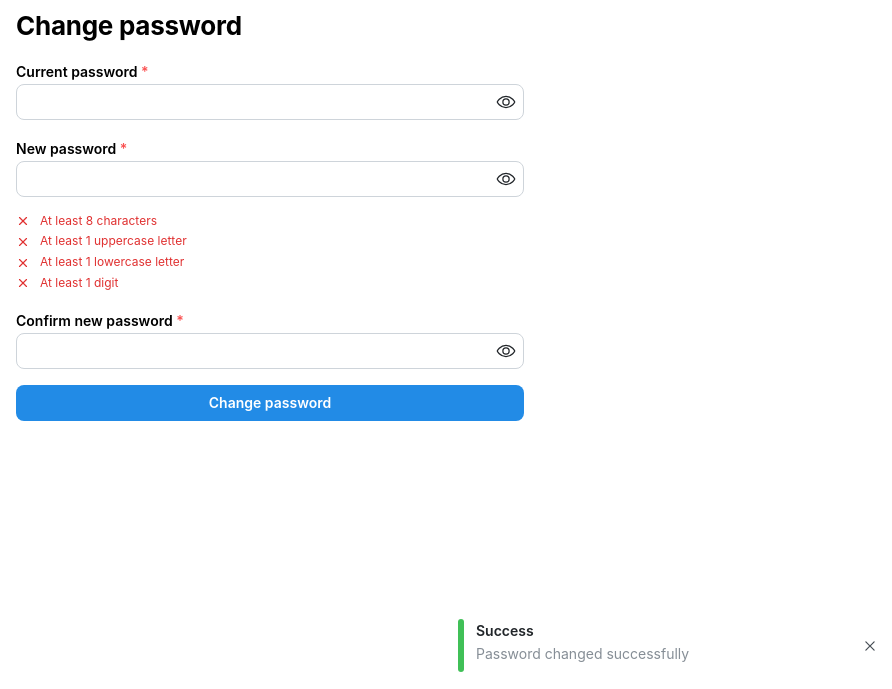
it: ChangePasswordPage › blocks submit when confirm does not match
Expected: the button "Change password" is enabled, [16,385,524,421]
In the password field labelled "Current password *": (270, 102) [17,85,523,119], type "OldPass1"
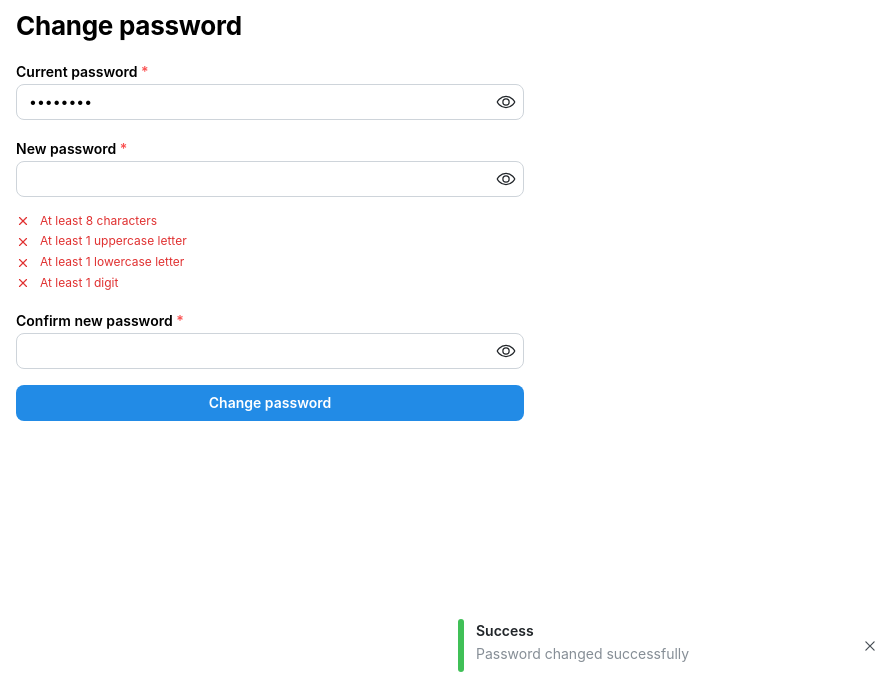
In the password field labelled "New password *": (270, 179) [17,162,523,196], type "NewPass456"
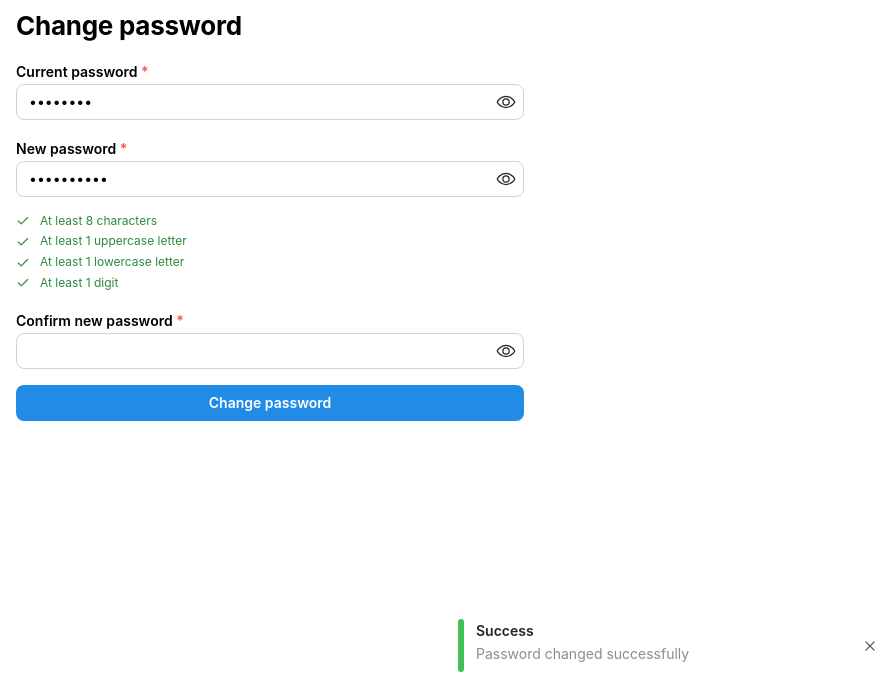
In the password field labelled "Confirm new password *": (270, 351) [17,334,523,368], type "DifferentPass1"
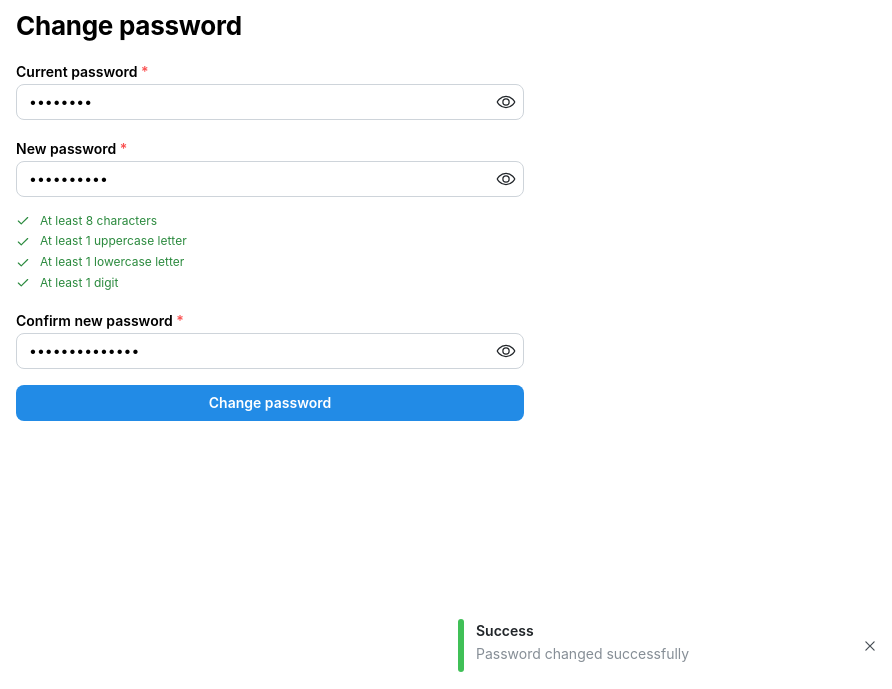
Click the button "Change password": (270, 403) [16,385,524,421]
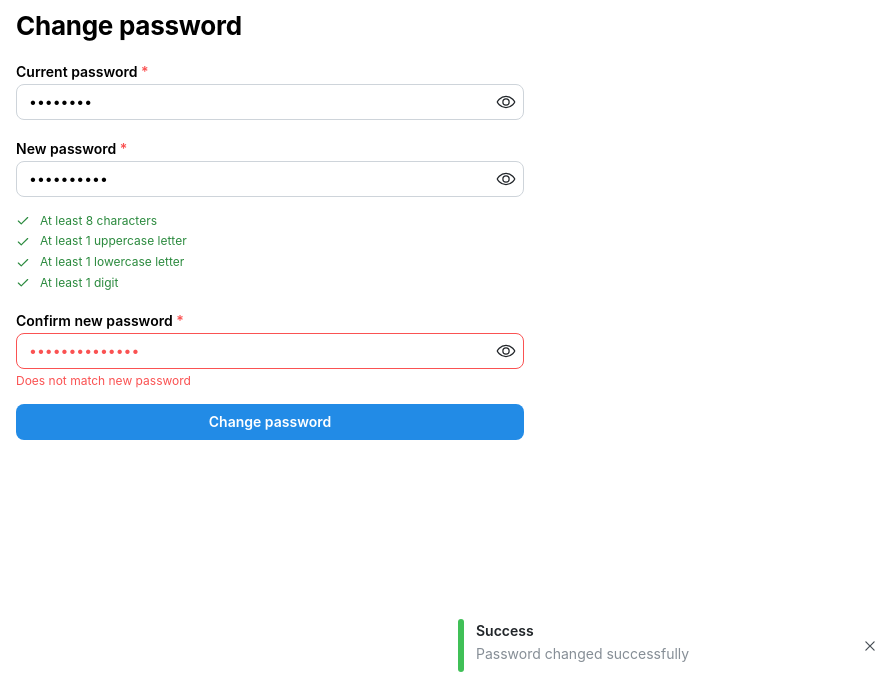
Expected: the text "Does not match new password" is shown, [16,373,191,388]
